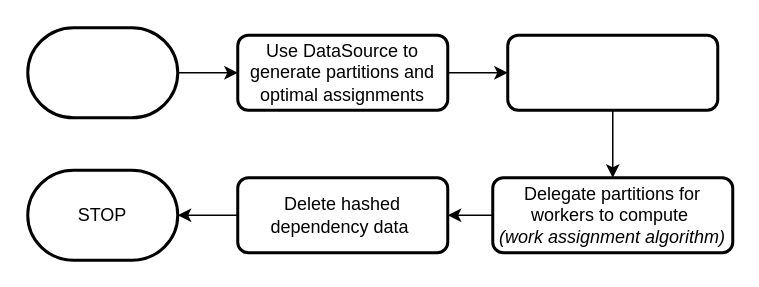
The diagram is 759 pixels wide and 287 high, and some of its shapes have lost their labels. The box of each missing label's shape, as (x1, y1, x2, y2) in pixels:
Hash dependency data to map to new partitions: (506, 33, 718, 111)
START: (26, 26, 178, 118)
